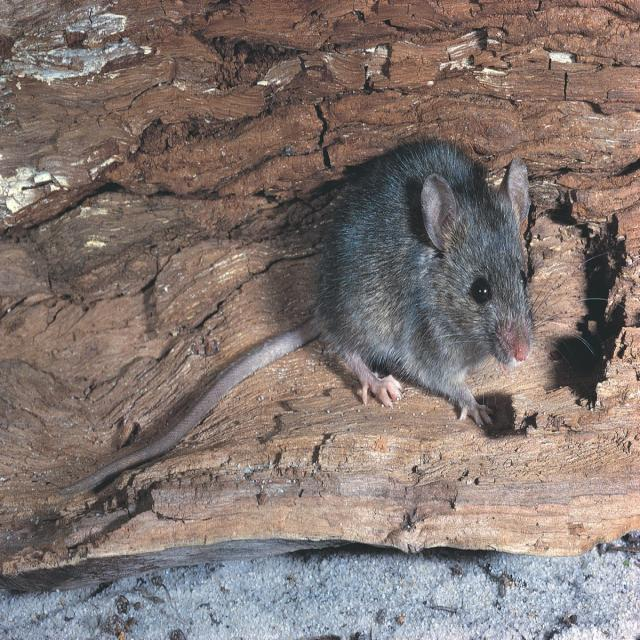Mouse: (64, 133, 530, 500)
